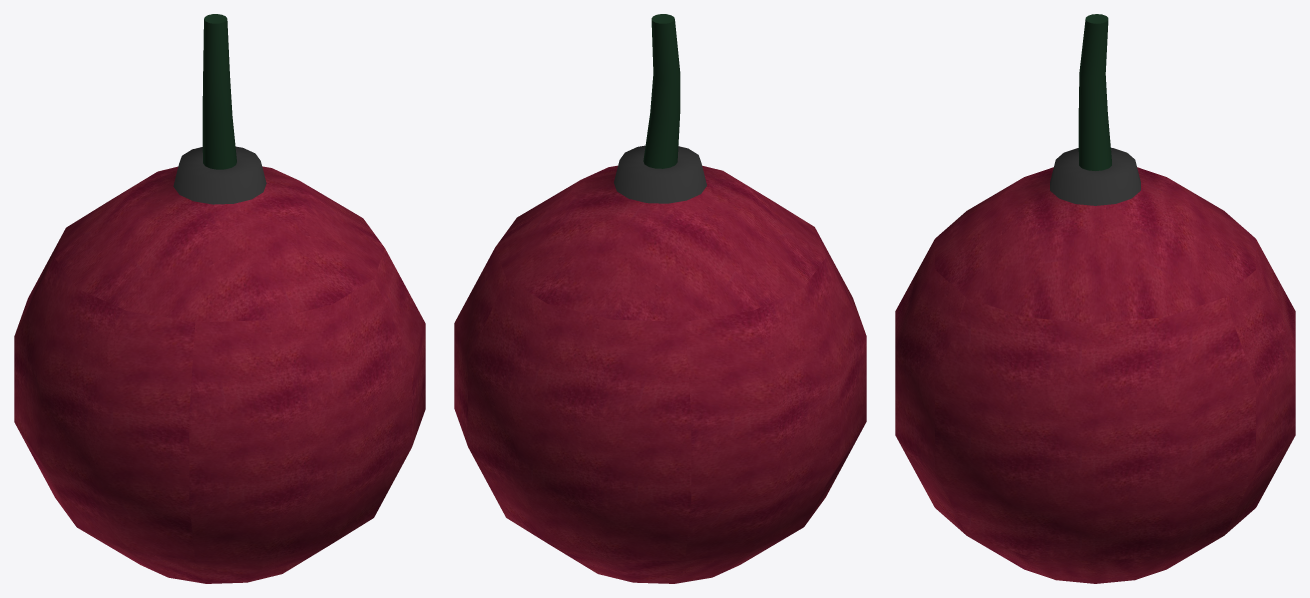
Rendered from CherryBomb.fbx.
3 views of the same model, side by side, from view 1: azimuth 30°, elevation 25°; view 2: azimuth 150°, elevation 25°; view 3: azimuth 270°, elevation 25° (orthographic).
Visible parts, largest first — view 1: Cheery_BOmb; view 2: Cheery_BOmb; view 3: Cheery_BOmb.
Part boxes in pixels (<box>): Cheery_BOmb: <box>14,14,425,583</box>; Cheery_BOmb: <box>454,14,866,583</box>; Cheery_BOmb: <box>895,14,1295,583</box>.
Bounding box in the file's own units: 195 × 285 × 190.
3 materials, 1 textured.
